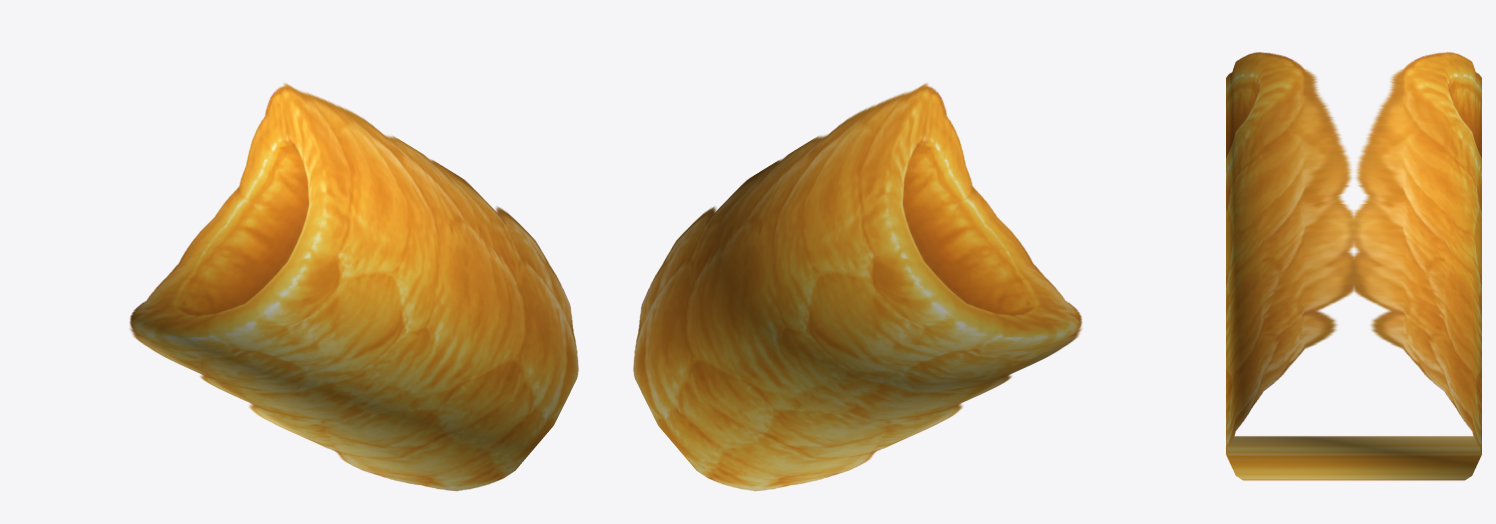
The model's file is tofu-skin-roll.glb.
3 views of the same model, side by side, from view 1: azimuth 30°, elevation 25°; view 2: azimuth 150°, elevation 25°; view 3: azimuth 270°, elevation 25° (orthographic). The views are drawn at different scales.
Visible parts, largest first — view 1: tofu-skin-roll; view 2: tofu-skin-roll; view 3: tofu-skin-roll.
Part boxes in pixels (bbox=[...]): tofu-skin-roll: bbox=[129, 83, 578, 490]; tofu-skin-roll: bbox=[633, 83, 1082, 490]; tofu-skin-roll: bbox=[1226, 52, 1481, 480].
Size of the model in its own units: 1.34 by 1.28 by 0.6968.
1 material, 1 textured.
